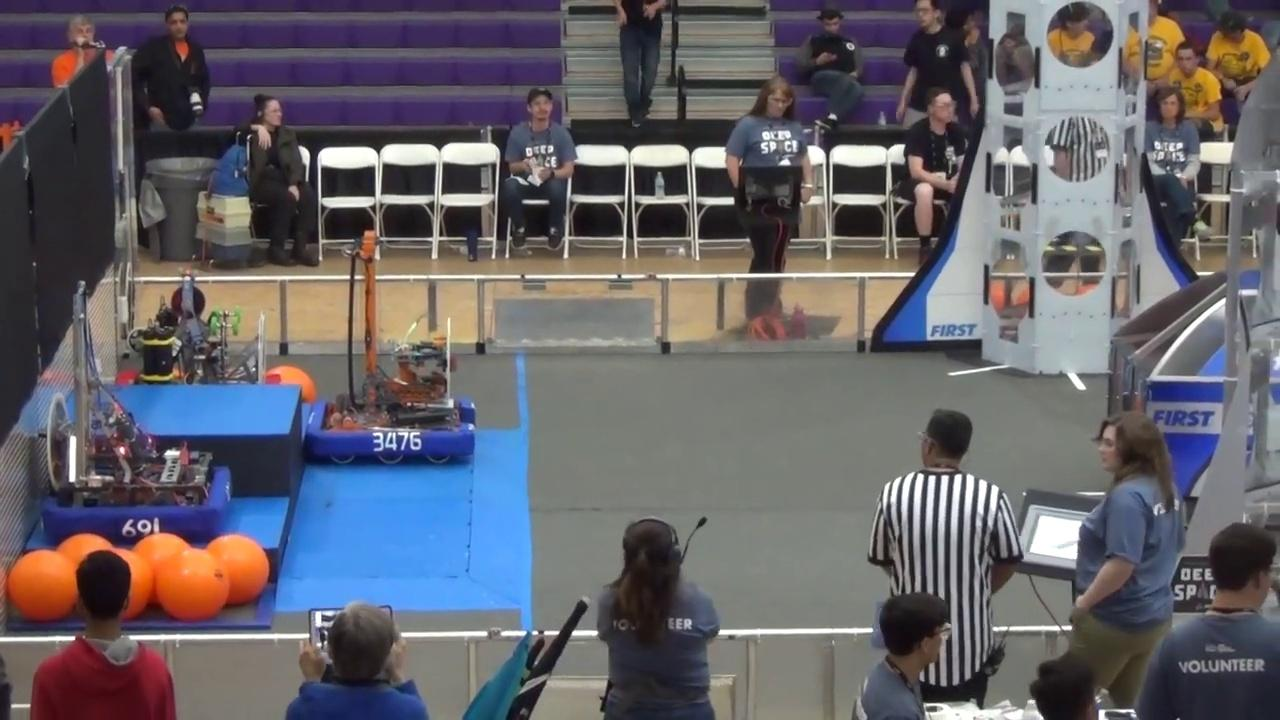robot: (40, 280, 236, 539), (299, 229, 477, 468)
